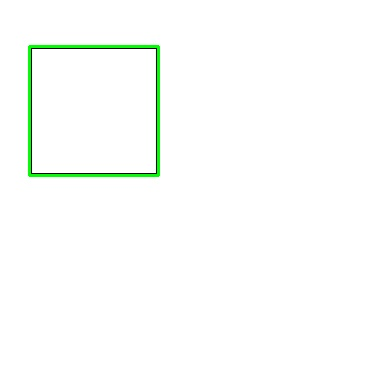line_segment: (28, 45, 160, 176)
